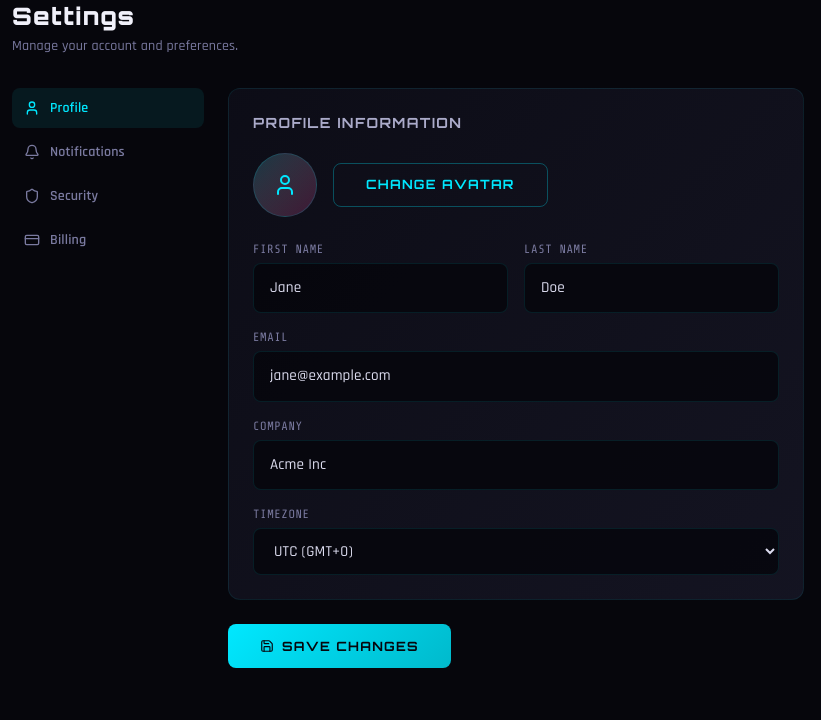
Test: Settings › shows API keys section in security tab
Click the button "Security".
click(108, 196)  # box [12, 176, 204, 216]
(page scrolled)
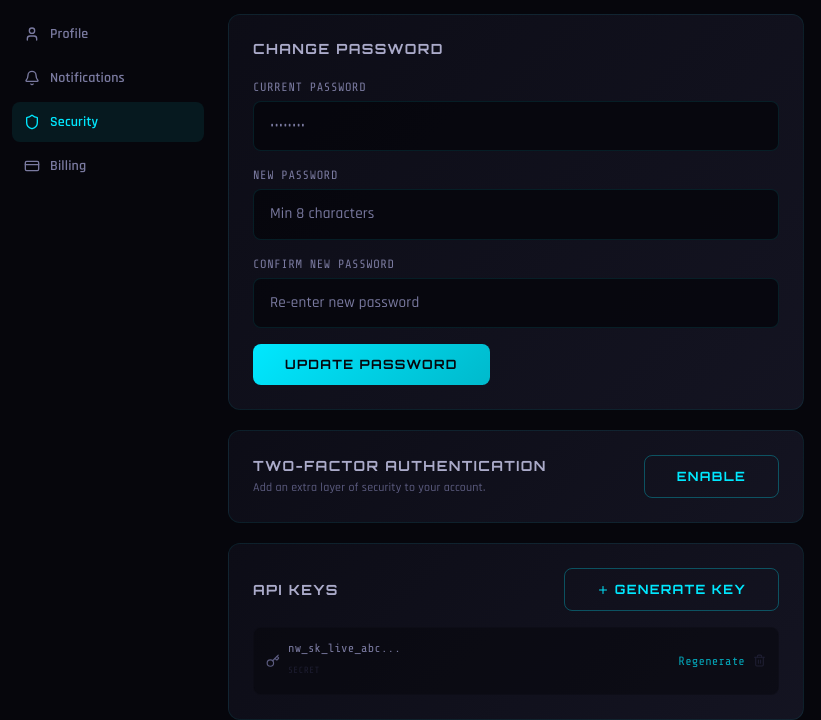
Check: the heading "API Keys" is shown, box [253, 580, 339, 600]
Check: the text "nw_sk_live_abc..." is shown, box [288, 641, 401, 655]
